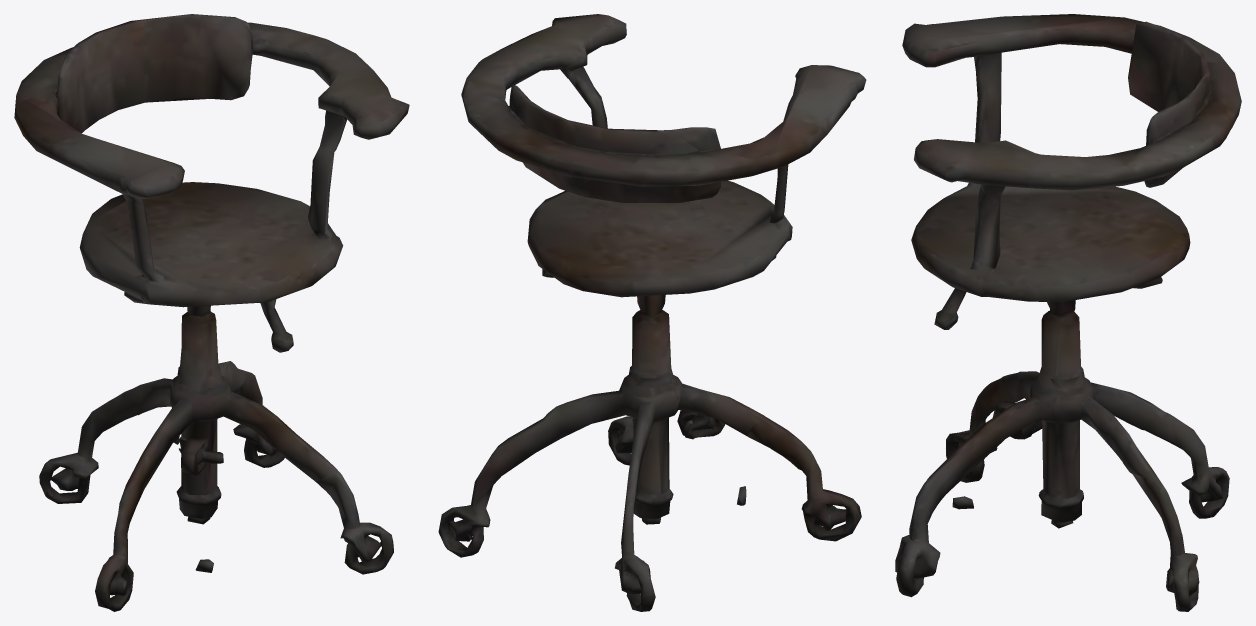
File: weathered-iron-examination-chair-v002.glb
3 views of the same model, side by side, from view 1: azimuth 30°, elevation 25°; view 2: azimuth 150°, elevation 25°; view 3: azimuth 270°, elevation 25° (orthographic).
Visible parts, largest first — view 1: weathered-iron-examination-chair; view 2: weathered-iron-examination-chair; view 3: weathered-iron-examination-chair.
Boxes of the visible parts, x1=… form: weathered-iron-examination-chair: x1=14, y1=14, x2=409, y2=611; weathered-iron-examination-chair: x1=438, y1=14, x2=866, y2=611; weathered-iron-examination-chair: x1=895, y1=14, x2=1241, y2=611.
Bounding box in the file's own units: 0.8669 × 1.19 × 0.78.
Materials: 1 (1 with a texture image).
